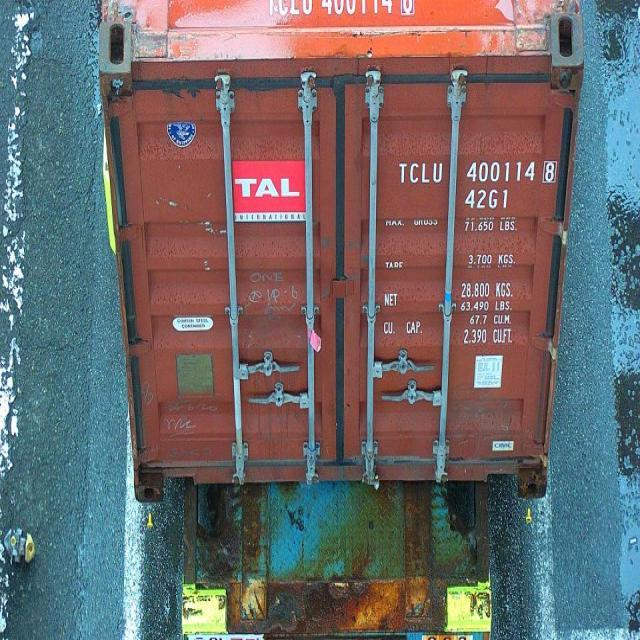ISO: (464, 188, 511, 210)
container_number: (401, 160, 557, 186)
